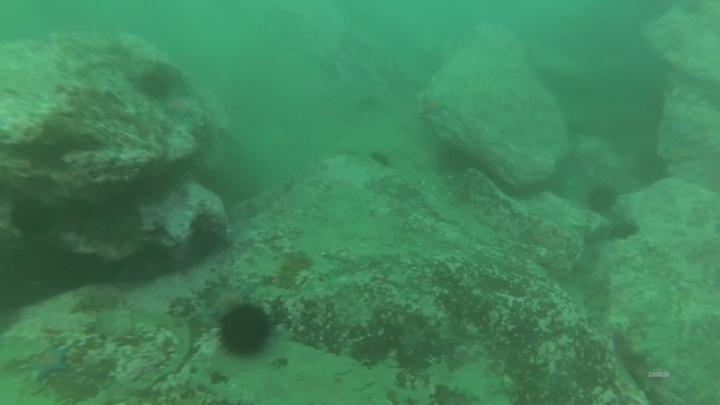echinus: (214, 300, 276, 360), (629, 148, 671, 189), (135, 68, 173, 102), (584, 182, 620, 216), (606, 217, 641, 244), (359, 147, 393, 172)
holothurian: (267, 248, 314, 291)
starfish: (20, 342, 72, 383), (202, 280, 254, 320), (159, 91, 199, 123), (659, 139, 700, 169), (416, 90, 451, 119)
